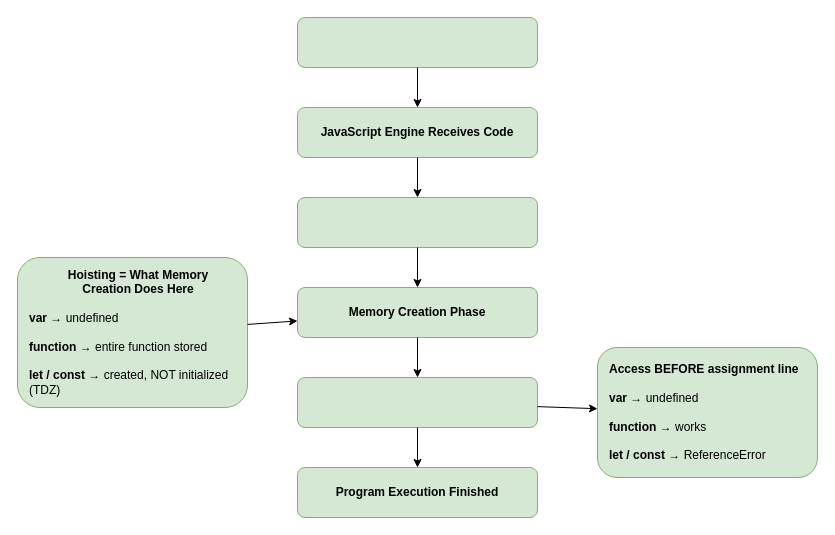
Image size: 835x535. Some labels were removed from this diagram. The box of each missing label's shape, as (x1, y1, x2, y2) in pixels:
Create Global Execution Context (GEC): (296, 196, 538, 248)
Execution Phase: (296, 376, 538, 428)
JavaScript File Starts script.js: (296, 16, 538, 68)
